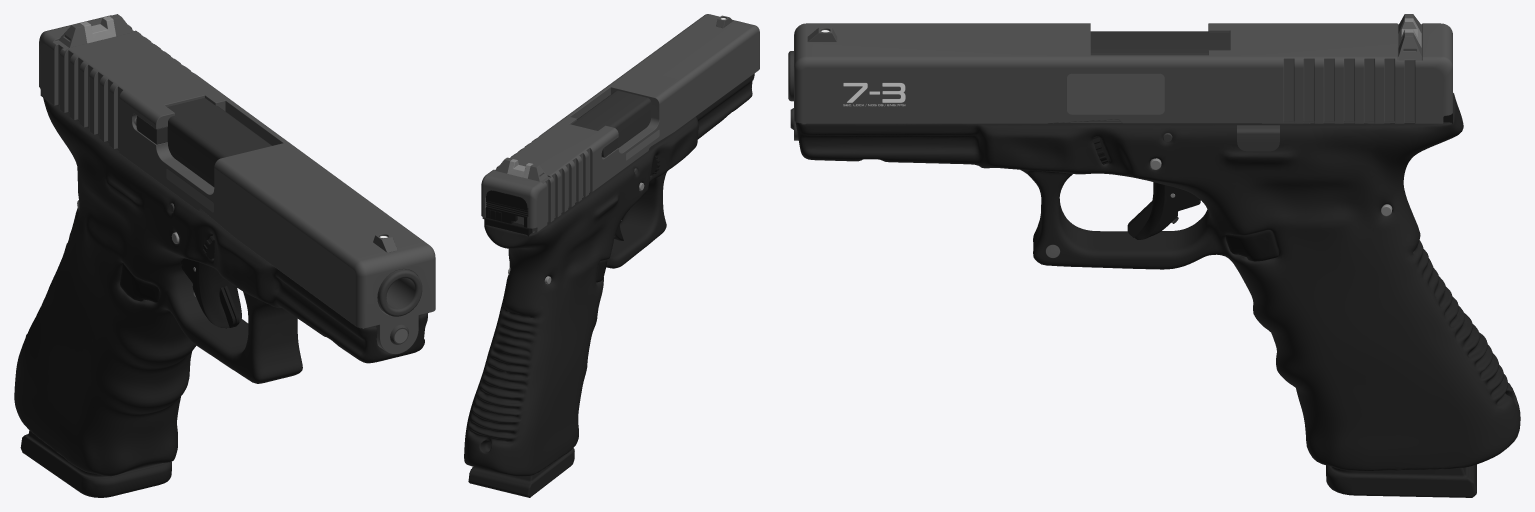
3 views of the same model, side by side, from view 1: azimuth 30°, elevation 25°; view 2: azimuth 150°, elevation 25°; view 3: azimuth 270°, elevation 25° (orthographic). The views are drawn at different scales.
Parts seen in each view (by area): view 1: glock016_21, glock005_3, glock001_4, glock013_16, glock019_24, glock012_15, glock020_25, glock003_6, glock004_7, decals001_0; view 2: glock016_21, glock005_3, glock001_4, glock013_16, glock009_12, glock008_11, glock003_6, glock010_13; view 3: glock016_21, glock005_3, decals002_1, glock013_16, glock001_4, glock019_24, glock020_25, glock021_26.
Part boxes in pixels (x1,y1,x2,y2): glock016_21: (14, 97, 427, 476); glock005_3: (39, 15, 435, 354); glock001_4: (136, 98, 271, 186); glock013_16: (20, 430, 171, 497); glock019_24: (180, 258, 241, 328); glock012_15: (377, 269, 422, 316); glock020_25: (120, 263, 159, 302); glock003_6: (58, 14, 133, 47); glock004_7: (80, 16, 115, 43); decals001_0: (166, 168, 213, 212); glock016_21: (464, 73, 754, 476); glock005_3: (481, 14, 759, 232); glock001_4: (571, 90, 651, 157); glock013_16: (468, 448, 574, 497); glock009_12: (486, 200, 528, 227); glock008_11: (486, 190, 528, 210); glock003_6: (495, 157, 547, 181); glock010_13: (484, 217, 532, 236); glock016_21: (795, 93, 1520, 470); glock005_3: (794, 23, 1452, 140); decals002_1: (1066, 73, 1164, 114); glock013_16: (1326, 464, 1476, 497); glock001_4: (1090, 31, 1229, 55); glock019_24: (1127, 182, 1200, 239); glock020_25: (1225, 230, 1278, 261); glock021_26: (1237, 125, 1279, 151).
Size of the model in its own units: 0.5209 by 2.23 by 3.28.
9 materials, 2 textured.
